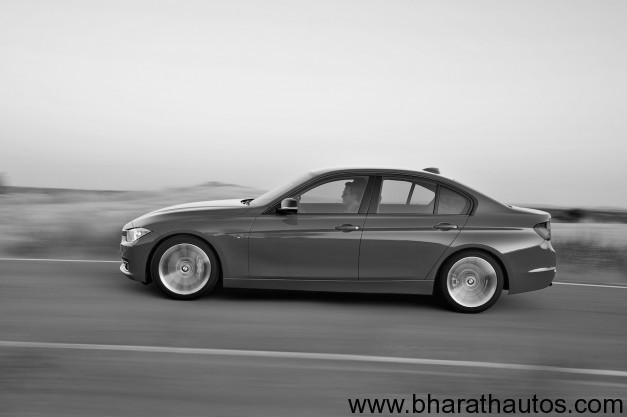car: (120, 166, 559, 315)
